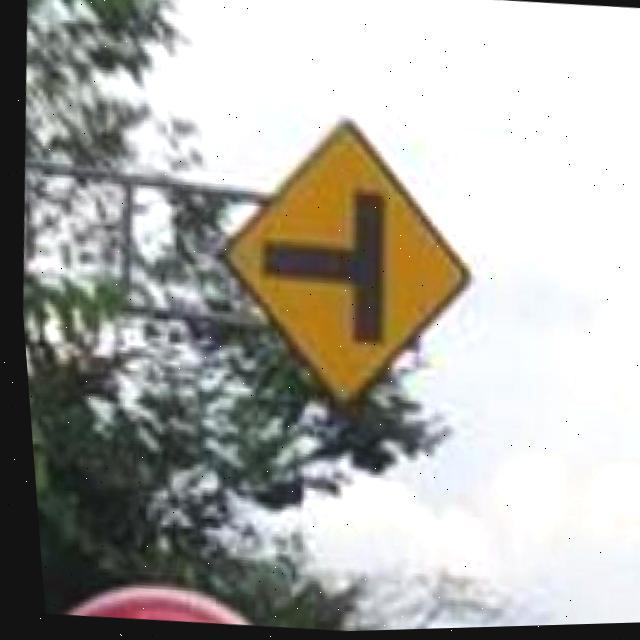Persimpangan 3 Sisi Kiri: (199, 116, 492, 424)
